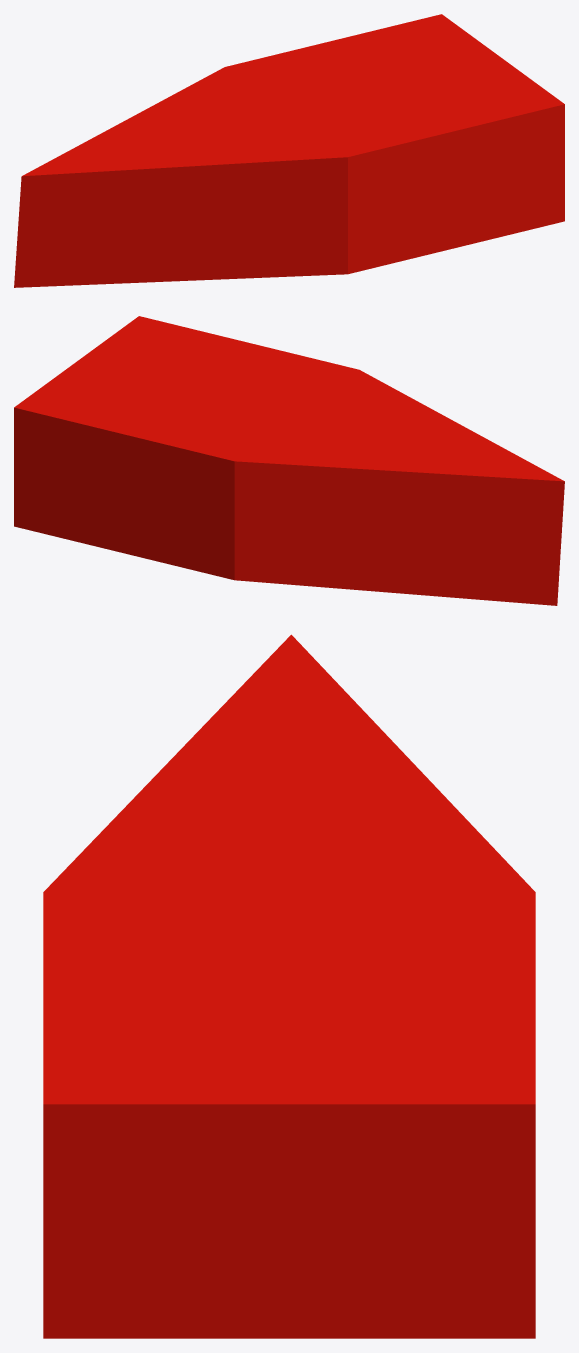
File: debug.glb
3 renders of one model, top to bottom at view 1: azimuth 30°, elevation 25°; view 2: azimuth 150°, elevation 25°; view 3: azimuth 270°, elevation 25°, orthographic. The views are drawn at different scales.
Parts seen in each view (by area): view 1: Craft; view 2: Craft; view 3: Craft.
Part boxes in pixels (x1,y1,x2,y2): Craft: (14, 14, 564, 287); Craft: (14, 316, 564, 605); Craft: (43, 634, 535, 1338).
Size of what is drawn, in the model's own units: 17.65 by 4.1 by 7.82.
